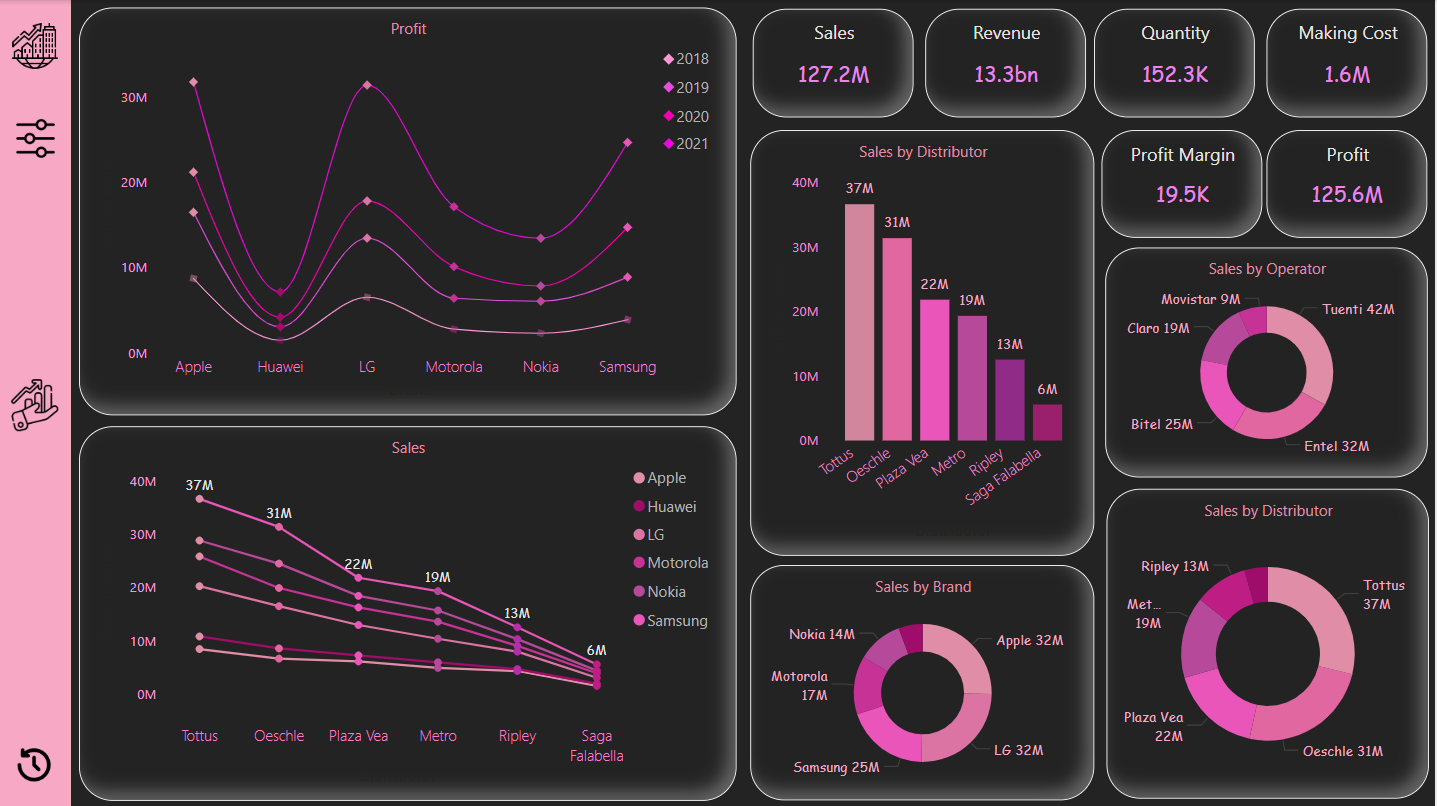

The page's visual inventory and layout, read from the dashboard file:
{"tool":"powerbi","page":{"name":"Sales","canvas":[1280,720],"ordinal":0},"visuals":[{"type":"shape","box":[0,0,63.8,720.2],"z":0},{"type":"stackedAreaChart","title":"Sales","fields":{"Category":["Phone Sales.Distributor"],"Y":["Sum(Phone Sales.Sales)"],"Series":["Phone Sales.Brand"]},"box":[71.2,379.1,585.3,333.7],"z":0,"group":"g1"},{"type":"stackedAreaChart","title":"Profit","fields":{"Category":["Phone Sales.Brand"],"Series":["Date_Phones.Month & Year.Variation.Date Hierarchy.Year"],"Y":["Sum(Phone Sales.Profit)"]},"box":[71.2,6.1,585.3,363.2],"z":1000,"group":"g1"},{"type":"image","box":[4.9,656.4,54,49.1],"z":1000},{"type":"image","box":[2.5,332.5,58.9,56.4],"z":2000},{"type":"image","box":[0,14.7,63.8,52.8],"z":3000},{"type":"donutChart","title":"Sales by Brand","fields":{"Category":["Phone Sales.Brand"],"Y":["Sum(Phone Sales.Sales)"]},"box":[668.7,503.1,306.8,209.8],"z":4000},{"type":"donutChart","title":"Sales by Distributor","fields":{"Category":["Phone Sales.Distributor"],"Y":["Sum(Phone Sales.Sales)"]},"box":[986.5,435.6,287.1,276.1],"z":5000},{"type":"donutChart","title":"Sales by Operator","fields":{"Category":["Phone Sales.Operator"],"Y":["Sum(Phone Sales.Sales)"]},"box":[985.3,220.9,287.1,204.9],"z":6000},{"type":"image","box":[3.7,101.8,58.9,44.2],"z":7000},{"type":"columnChart","title":"Sales by Distributor","fields":{"Category":["Phone Sales.Distributor"],"Y":["Sum(Phone Sales.Sales)"]},"box":[668.7,115.3,306.8,379.1],"z":8000},{"type":"card","title":"Sales","fields":{"Values":["Sum(Phone Sales.Sales)"]},"box":[671.2,7.4,143.6,96.9],"z":9000},{"type":"card","title":"Revenue","fields":{"Values":["Sum(Phone Sales.Revenue)"]},"box":[824.5,7.4,143.6,96.9],"z":10000},{"type":"card","title":"Quantity","fields":{"Values":["Sum(Phone Sales.Quantity)"]},"box":[975.5,7.4,143.6,96.9],"z":11000},{"type":"card","title":"Profit","fields":{"Values":["Sum(Phone Sales.Profit)"]},"box":[1128.8,115.3,143.6,95.7],"z":12000},{"type":"card","title":"Making Cost","fields":{"Values":["Sum(Phone Sales.Manufacturing Cost)"]},"box":[1128.8,7.4,143.6,96.9],"z":13000},{"type":"card","title":"Profit Margin","fields":{"Values":["Sum(Phone Sales.Profit Margin)"]},"box":[981.6,115.3,143.6,95.7],"z":14000},{"type":"group","id":"g1","title":"Visuals","box":[71.2,6.1,585.3,706.8],"z":16000}]}

Visuals, with their boxes in screenshot pixels (x1, y1, x2, y2), scaled from the page's 1280x720 canvas onto the 1437x806 screenshot:
shape: rect(0, 0, 72, 805)
"Sales" stackedAreaChart: rect(80, 424, 737, 798)
"Profit" stackedAreaChart: rect(80, 7, 737, 413)
image: rect(6, 735, 66, 790)
image: rect(3, 372, 69, 435)
image: rect(0, 16, 72, 76)
"Sales by Brand" donutChart: rect(751, 563, 1095, 798)
"Sales by Distributor" donutChart: rect(1108, 488, 1430, 797)
"Sales by Operator" donutChart: rect(1106, 247, 1428, 477)
image: rect(4, 114, 70, 163)
"Sales by Distributor" columnChart: rect(751, 129, 1095, 553)
"Sales" card: rect(754, 8, 915, 117)
"Revenue" card: rect(926, 8, 1087, 117)
"Quantity" card: rect(1095, 8, 1256, 117)
"Profit" card: rect(1267, 129, 1428, 236)
"Making Cost" card: rect(1267, 8, 1428, 117)
"Profit Margin" card: rect(1102, 129, 1263, 236)
"Visuals" group: rect(80, 7, 737, 798)
